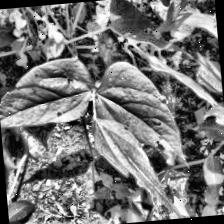ALS: (94, 69, 186, 183), (10, 60, 82, 132)
